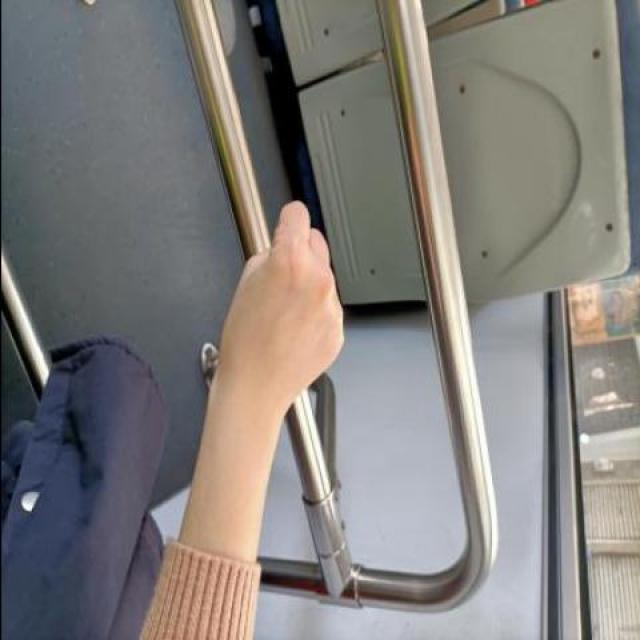fist: (209, 197, 348, 408)
